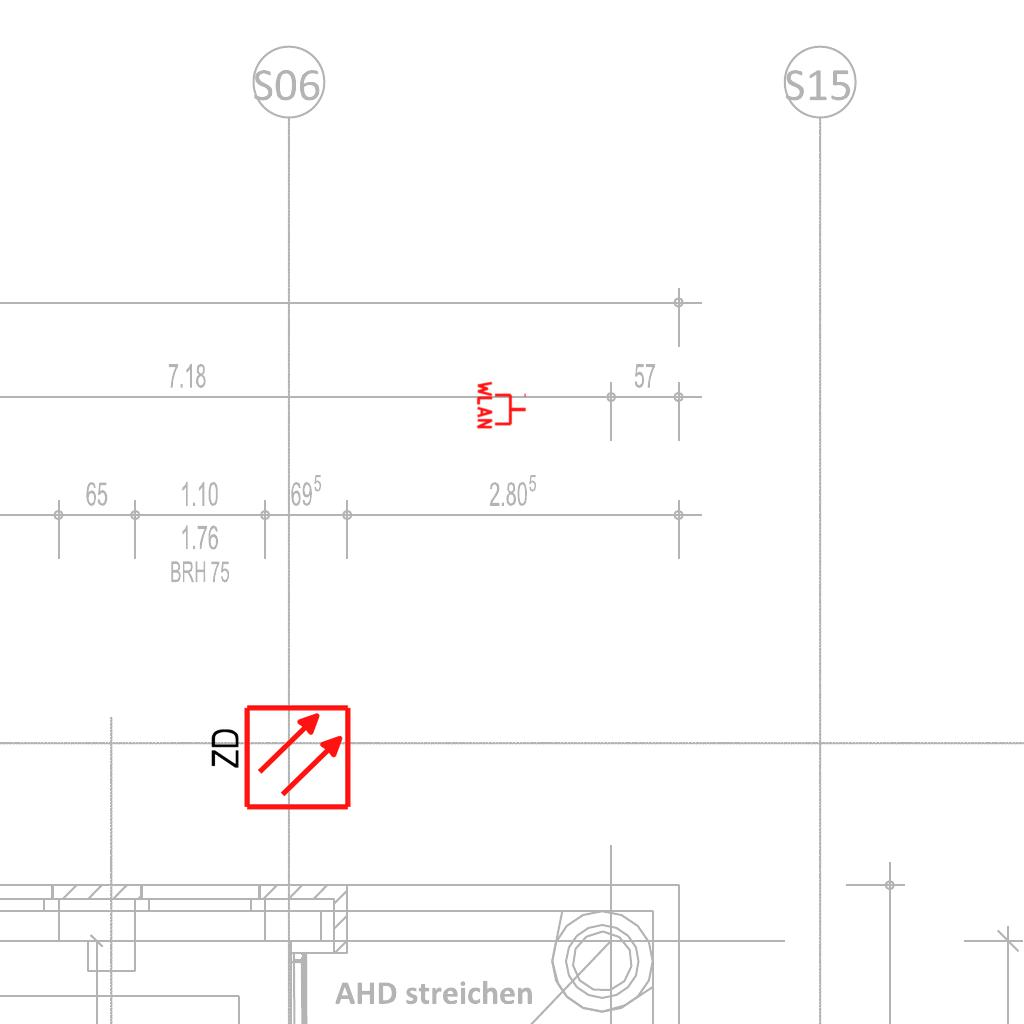WLAN: (476, 379, 528, 431)
ZD_Melder_in_Zwischendecke_mit_Revisionsoeffnung_mind_40_x_40_cm: (204, 702, 353, 816)
